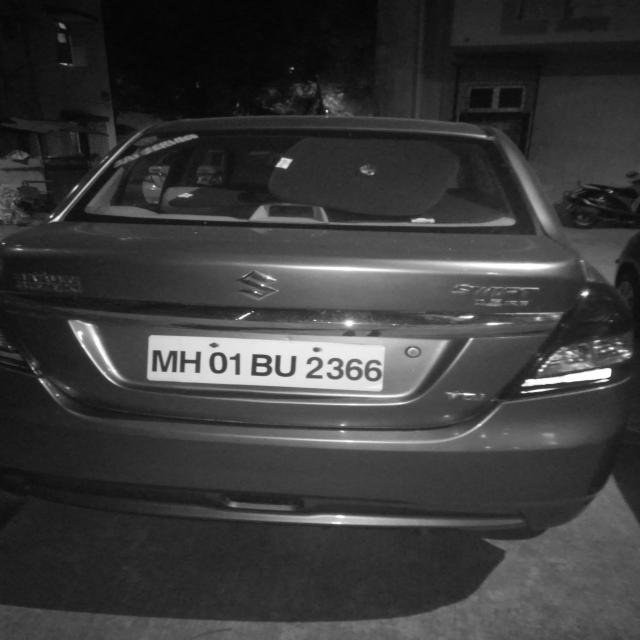car: (2, 110, 640, 536), (140, 332, 390, 392)
